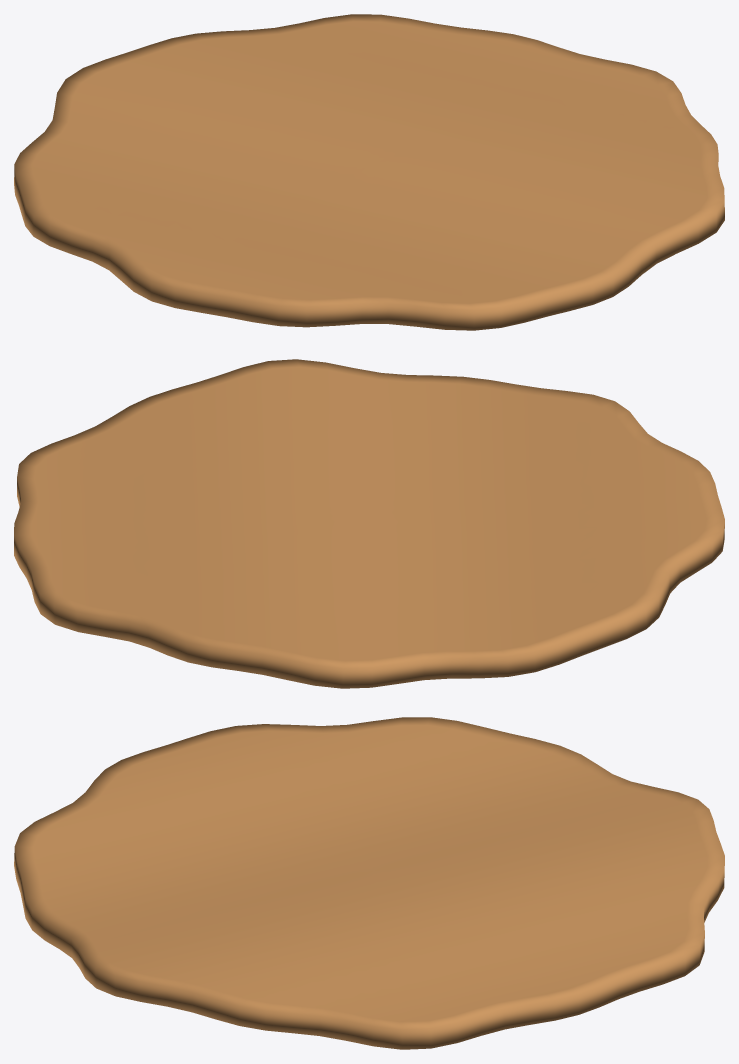
Rendered from sides-house.glb.
3 renders of one model, top to bottom at view 1: azimuth 30°, elevation 25°; view 2: azimuth 150°, elevation 25°; view 3: azimuth 270°, elevation 25°, orthographic.
Visible parts, largest first — view 1: Smooth house dip; view 2: Smooth house dip; view 3: Smooth house dip.
Part boxes in pixels (x1,y1,x2,y2): Smooth house dip: (14, 14, 724, 330); Smooth house dip: (14, 359, 724, 688); Smooth house dip: (14, 717, 724, 1049).
Size of the model in its own units: 0.5855 by 0.026 by 0.576.
